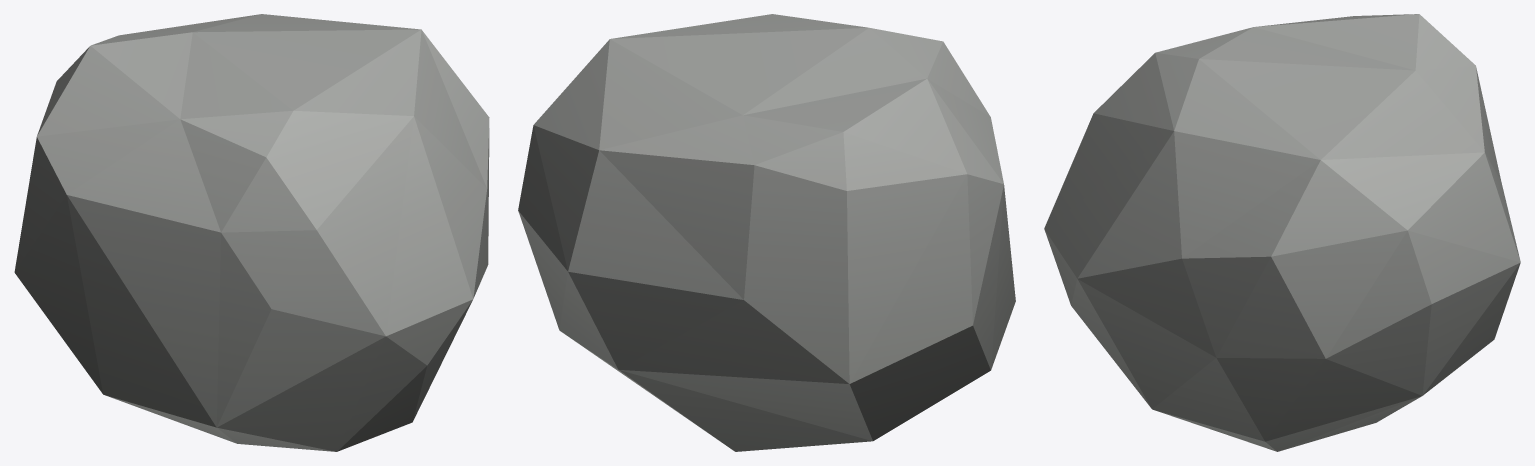
3 renders of one model, left to right at view 1: azimuth 30°, elevation 25°; view 2: azimuth 150°, elevation 25°; view 3: azimuth 270°, elevation 25°, orthographic. The views are drawn at different scales.
Visible parts, largest first — view 1: Rock1_0; view 2: Rock1_0; view 3: Rock1_0.
Part boxes in pixels (left/top/right/bottom): Rock1_0: left=14, top=14, right=489, bottom=451; Rock1_0: left=518, top=14, right=1015, bottom=451; Rock1_0: left=1044, top=14, right=1520, bottom=451.
Bounding box in the file's own units: 2.12 × 1.69 × 2.07.
Materials: 1 (1 with a texture image).
